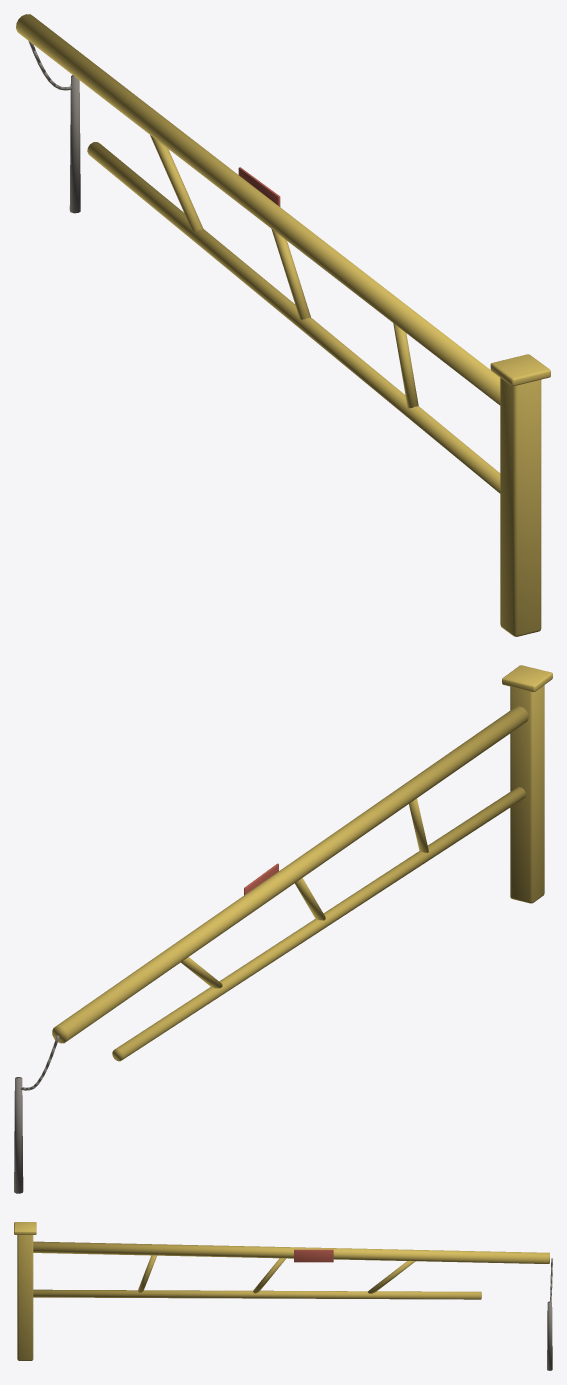
Rendered from pipe_gate.glb.
The picture shows the model from 3 angles, top to bottom: view 1: azimuth 30°, elevation 25°; view 2: azimuth 150°, elevation 25°; view 3: azimuth 270°, elevation 25°; orthographic projection. The views are drawn at different scales.
Parts seen in each view (by area): view 1: g_gate_yellow, g_metal; view 2: g_gate_yellow, g_metal; view 3: g_gate_yellow, g_reflector, g_metal.
Boxes of the visible parts, x1=… form: g_gate_yellow: x1=16, y1=14, x2=550, y2=636; g_metal: x1=28, y1=41, x2=80, y2=213; g_gate_yellow: x1=52, y1=665, x2=552, y2=1061; g_metal: x1=14, y1=1035, x2=59, y2=1193; g_gate_yellow: x1=14, y1=1222, x2=549, y2=1360; g_reflector: x1=294, y1=1249, x2=333, y2=1262; g_metal: x1=547, y1=1258, x2=552, y2=1370.
Size of the model in its own units: 0.525 by 1.28 by 4.73.
